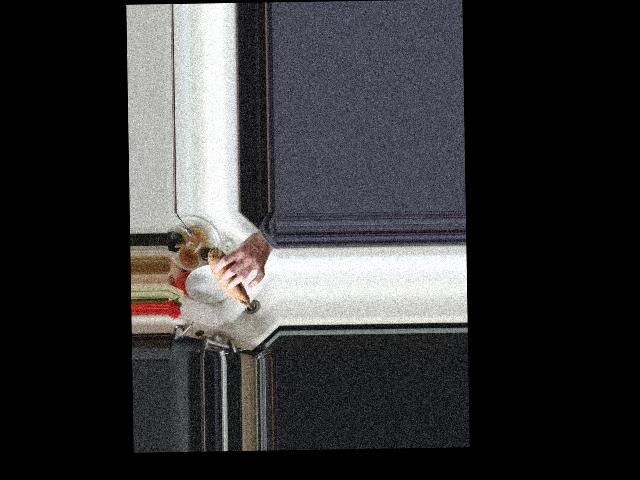sweet_potato: (207, 248, 252, 310)
